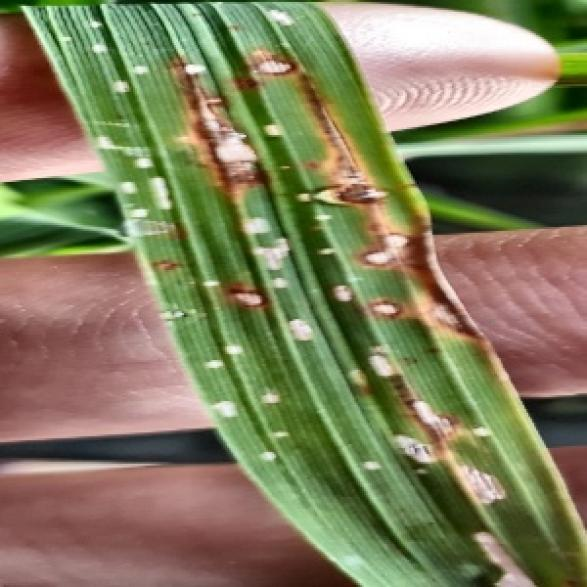Leaf_smut: (139, 276, 538, 585), (47, 4, 440, 276)
